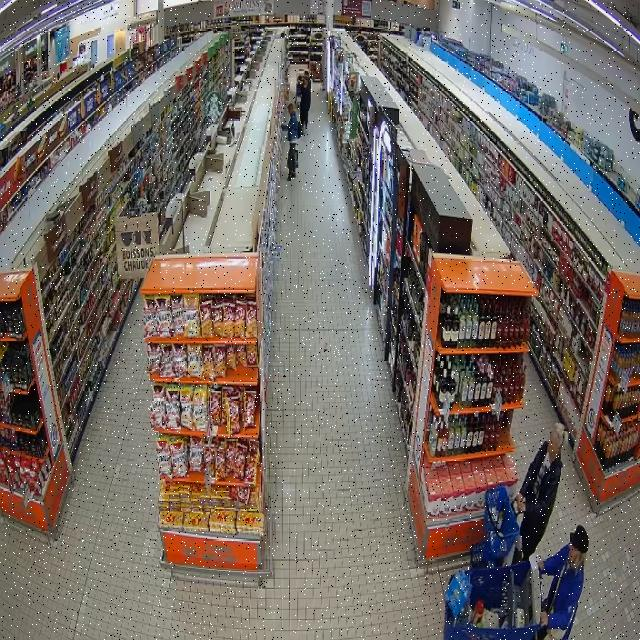bags: (546, 629, 565, 639), (298, 122, 303, 137), (295, 149, 299, 167)
hands: (516, 493, 526, 511), (541, 612, 549, 626), (538, 558, 544, 571)
person: (514, 423, 564, 563), (538, 526, 589, 639), (281, 104, 298, 181)
